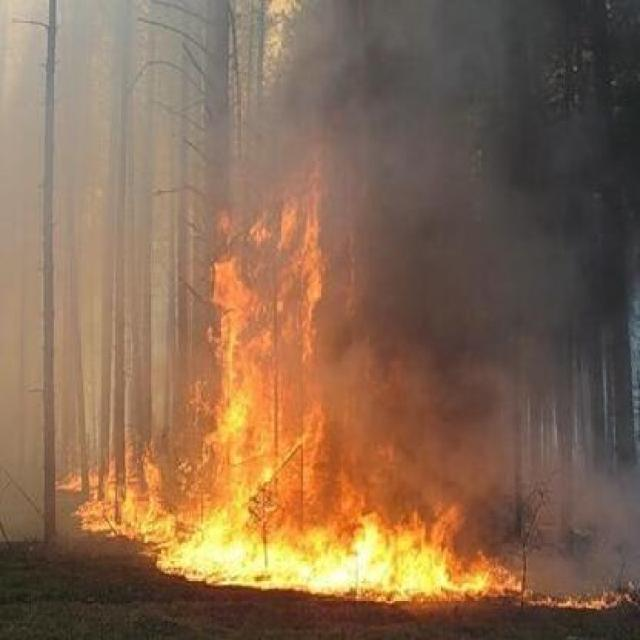Fire: (66, 137, 640, 640)
